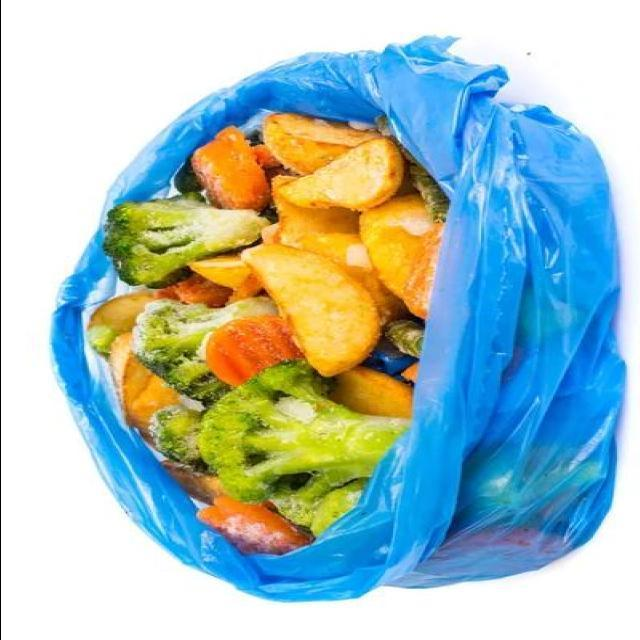Garbage: (86, 114, 442, 555)
